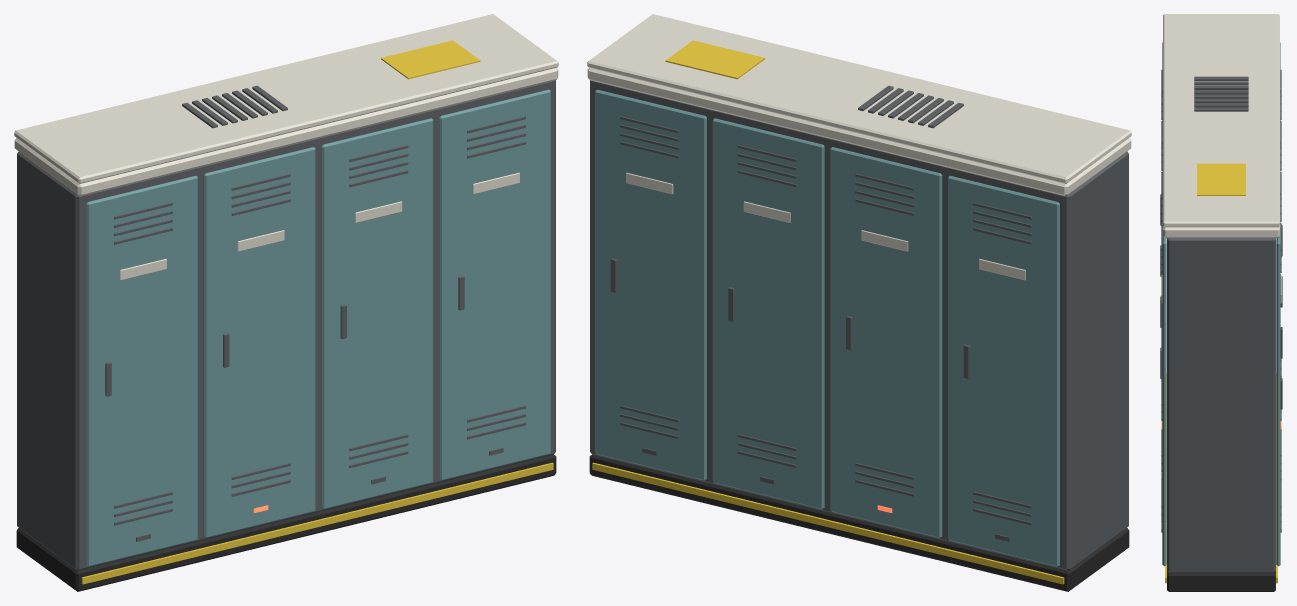
File: locker_bank.glb
The picture shows the model from 3 angles, left to right: view 1: azimuth 30°, elevation 25°; view 2: azimuth 150°, elevation 25°; view 3: azimuth 270°, elevation 25°; orthographic projection. The views are drawn at different scales.
Visible parts, largest first — view 1: locker_bank; view 2: locker_bank; view 3: locker_bank.
Boxes of the visible parts, left/top/right/bottom form: locker_bank: left=14, top=14, right=558, bottom=591; locker_bank: left=587, top=14, right=1131, bottom=591; locker_bank: left=1160, top=14, right=1282, bottom=591.
Bounding box in the file's own units: 2.4 × 2 × 0.596.
